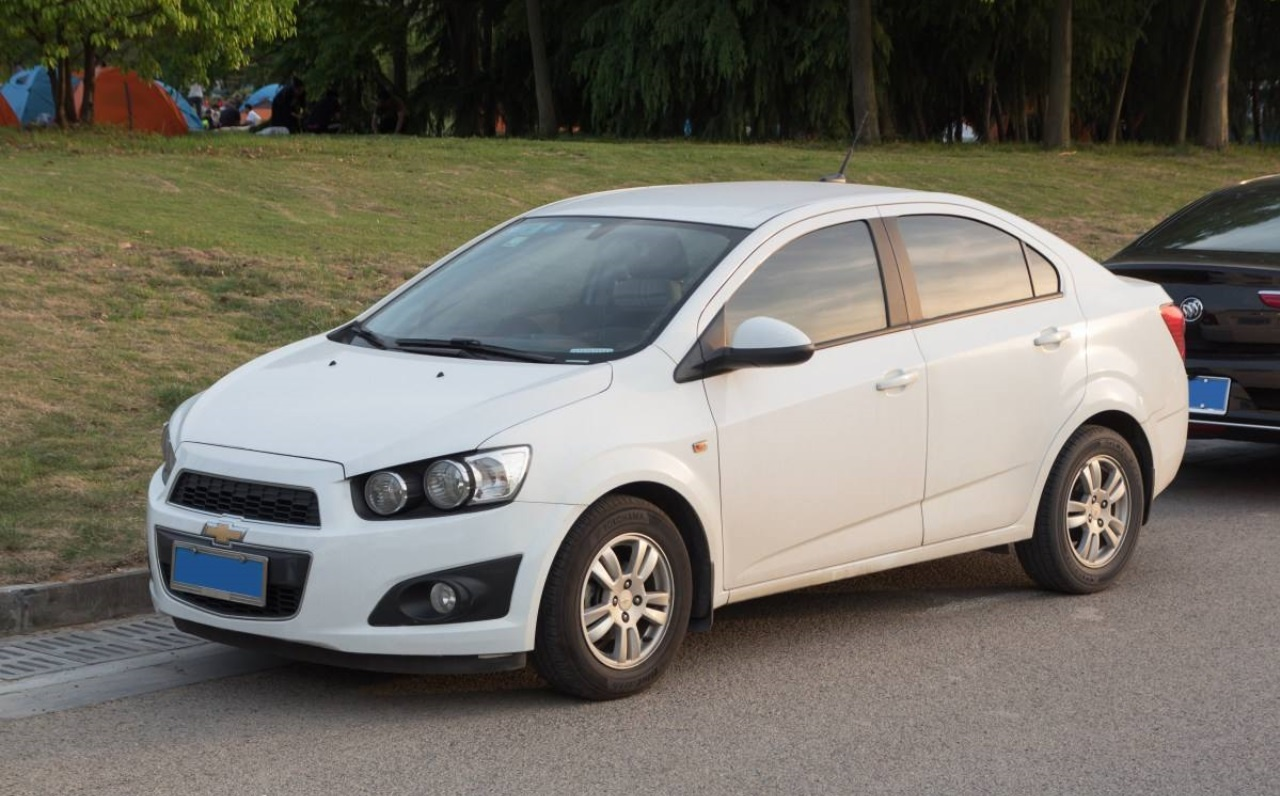family sedan: (135, 173, 1205, 711)
